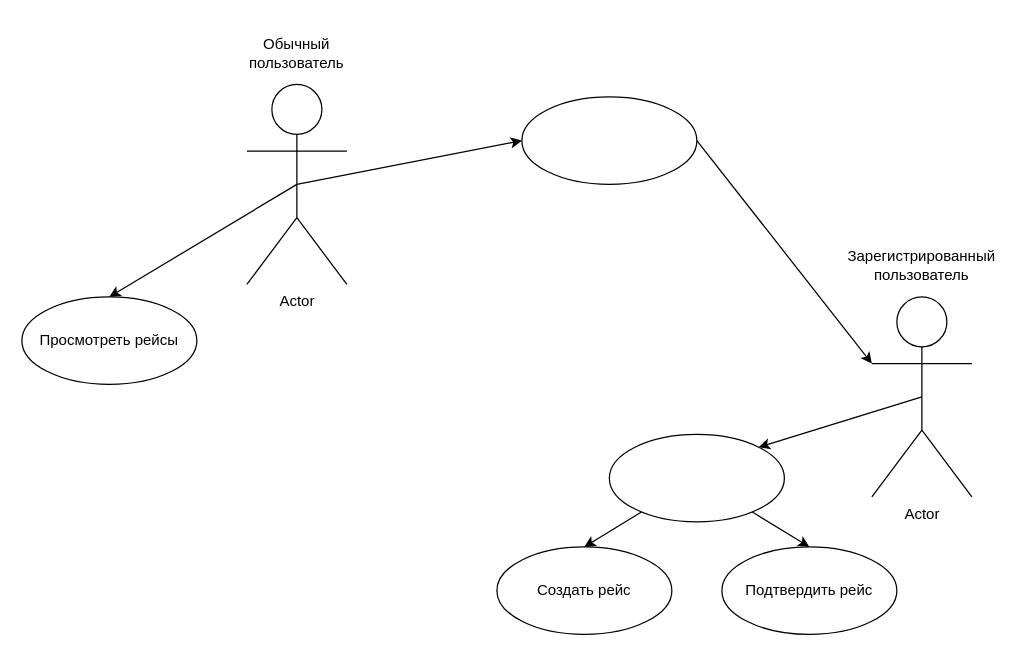
This 1019x656 diagram has some shape labels left out. Here are the shapes that lost their labels. From the top down, the box of each, then its label:
(521, 96, 697, 184): Зарегистрироваться
(608, 433, 784, 522): Авторизоваться
